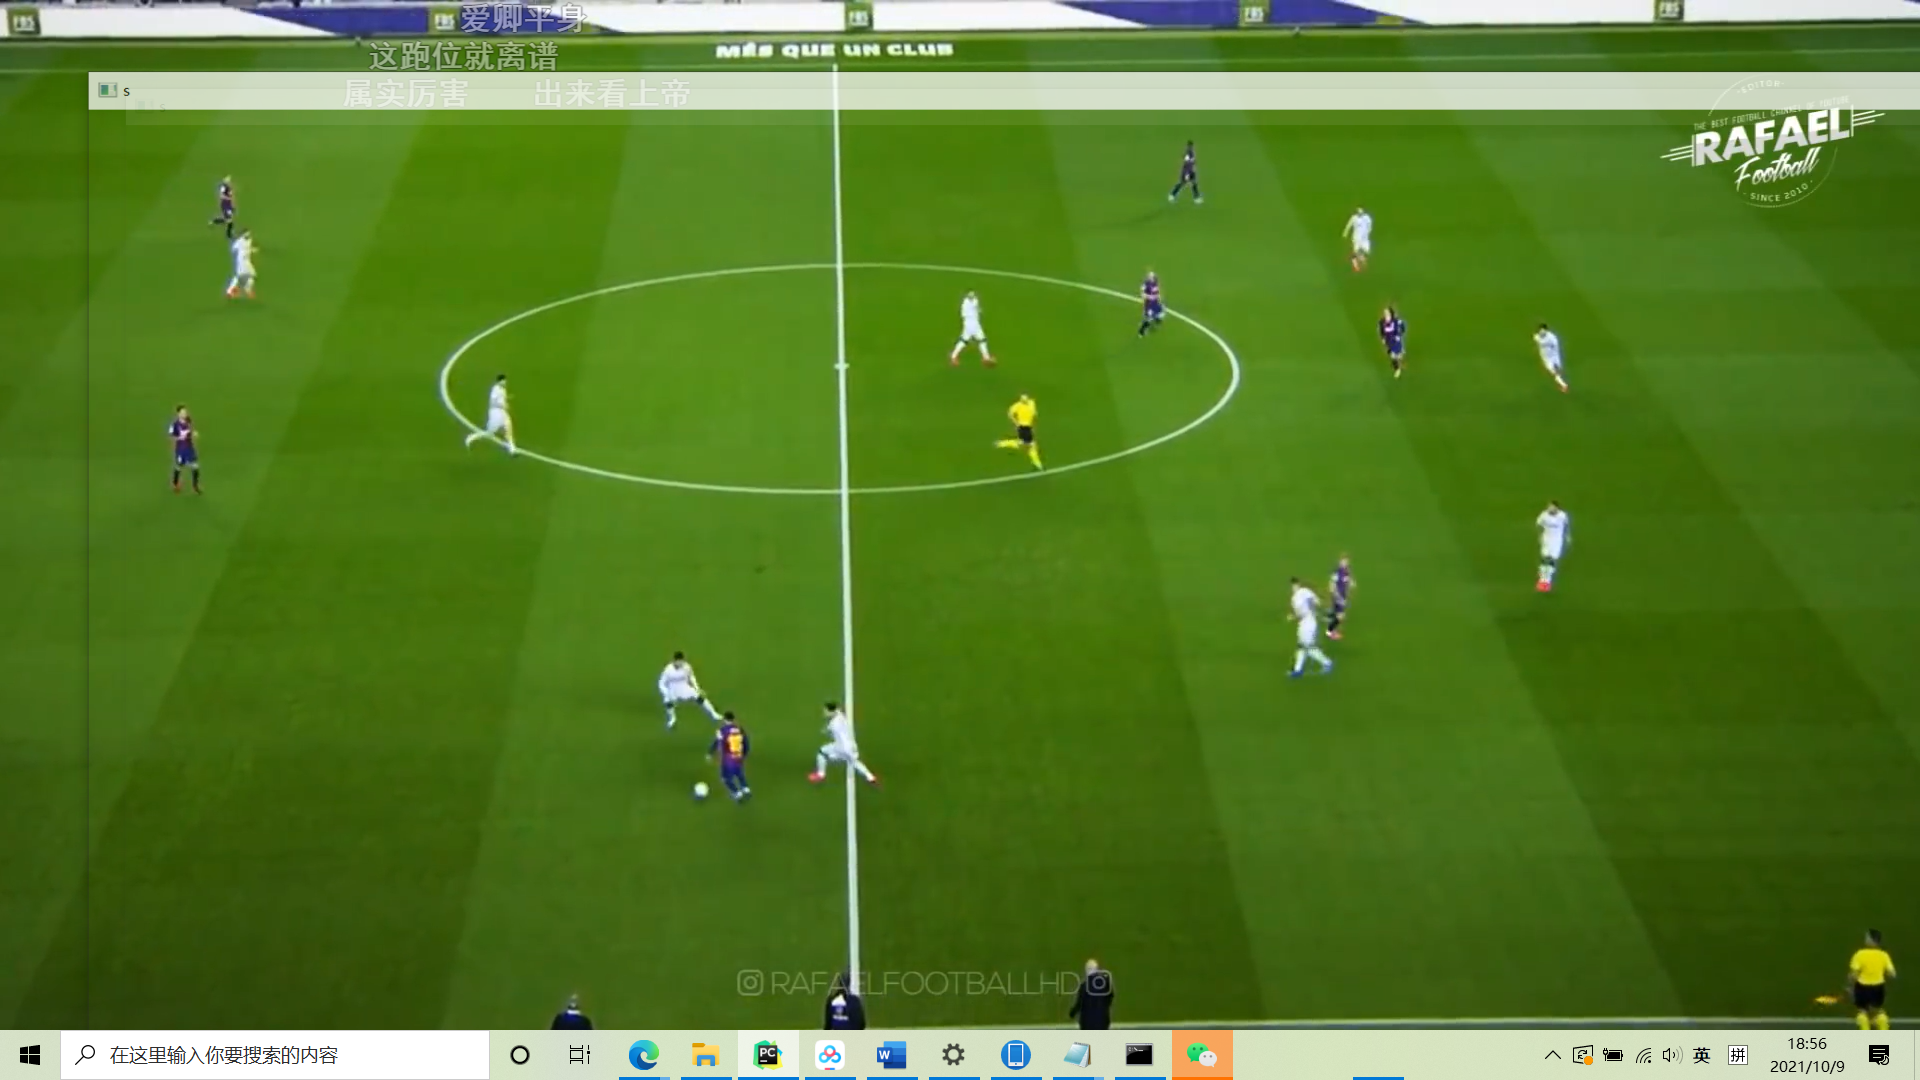ft: (691, 781, 712, 802)
